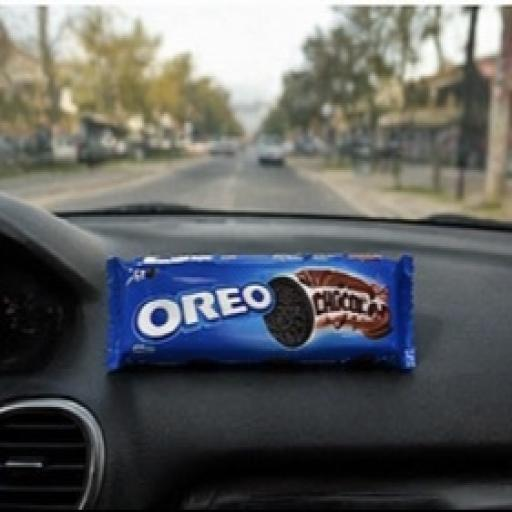oreo: (70, 175, 452, 425)
